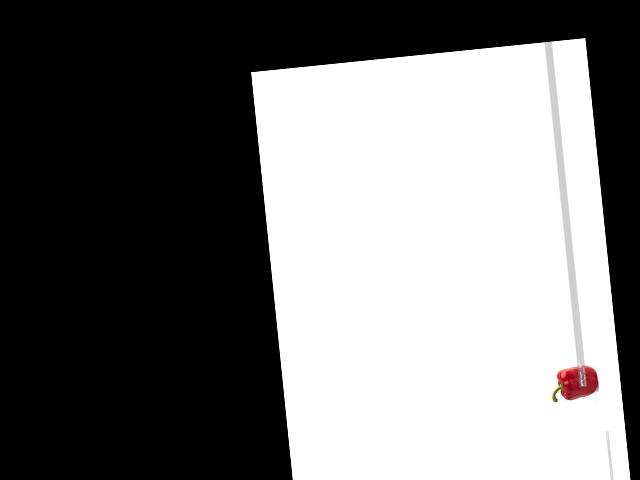bell_pepper: (546, 362, 598, 407)
